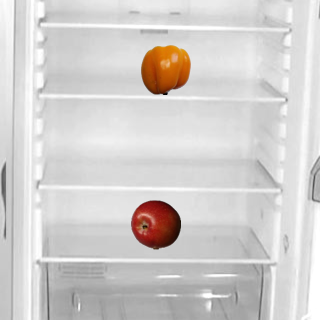Apple Braeburn: (130, 199, 180, 249)
Pepper Yellow: (140, 44, 190, 94)
